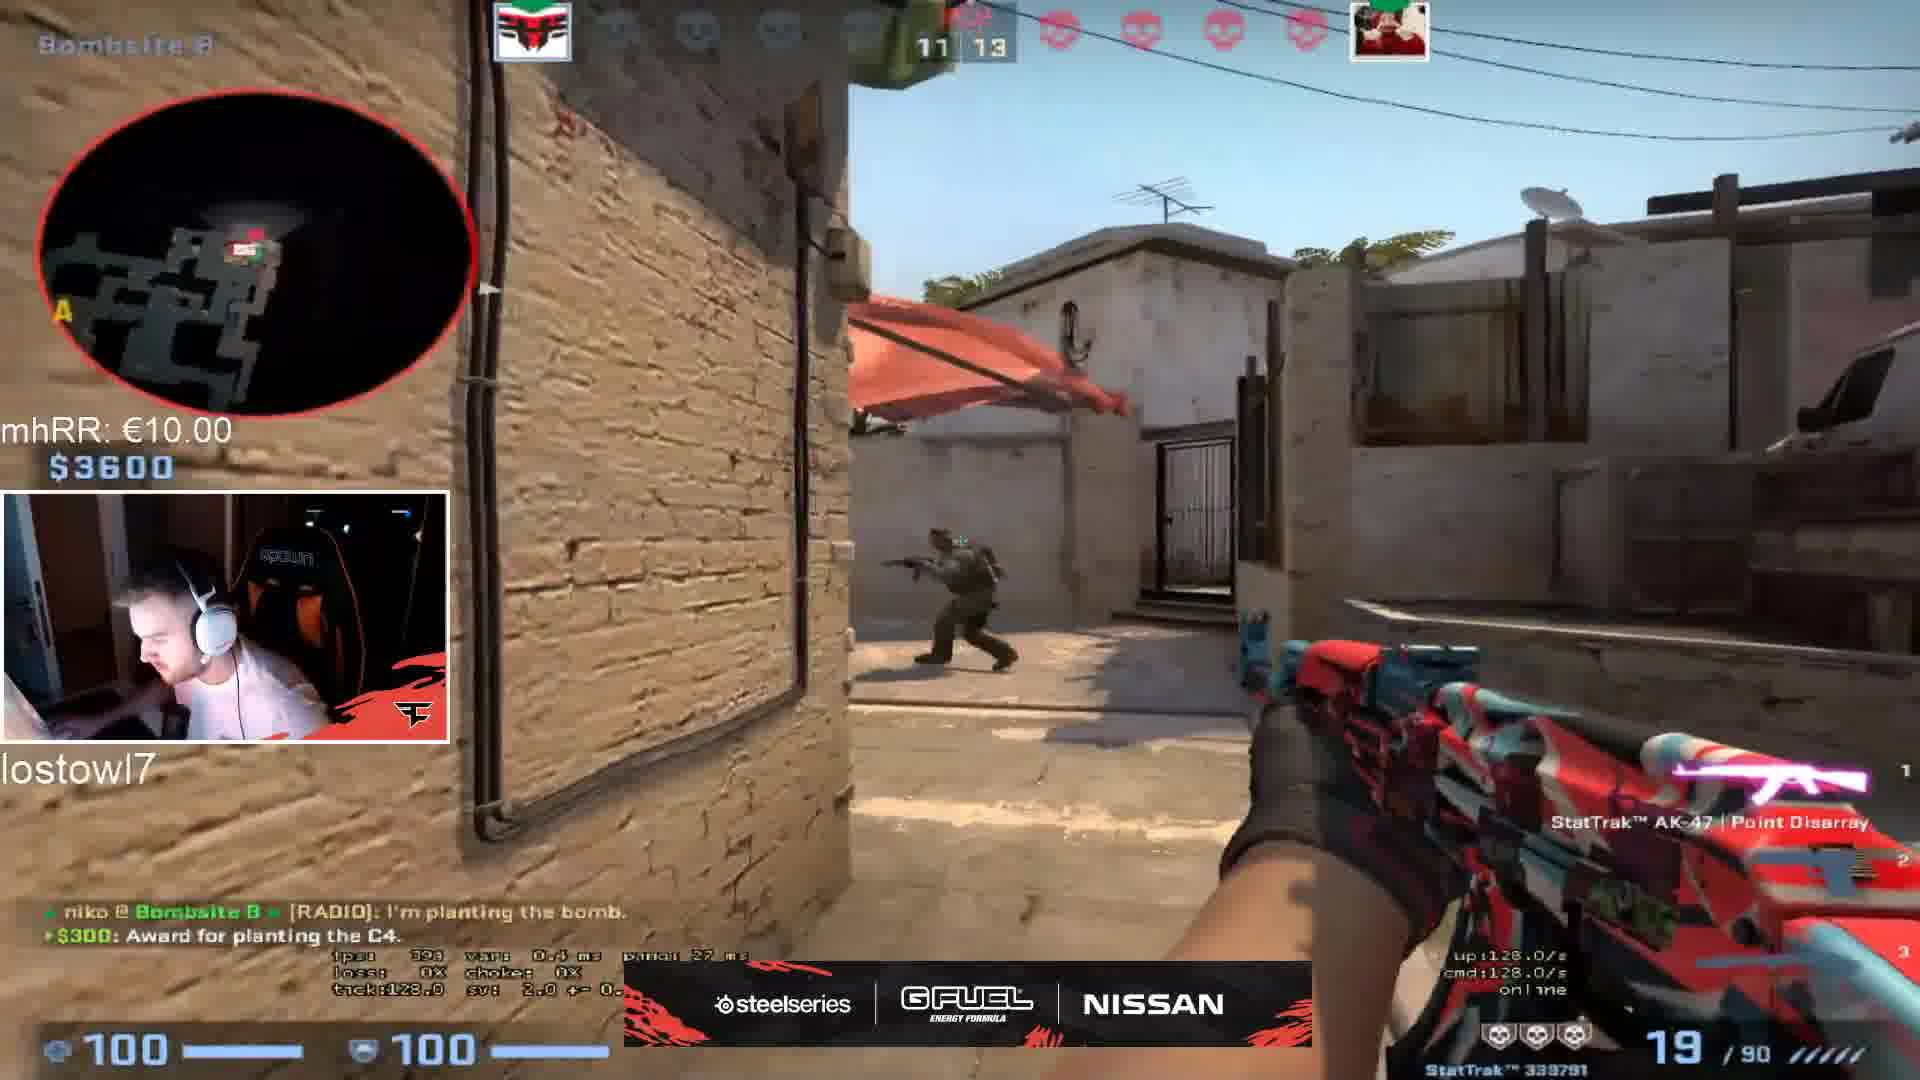enemy: (870, 516, 1029, 686)
